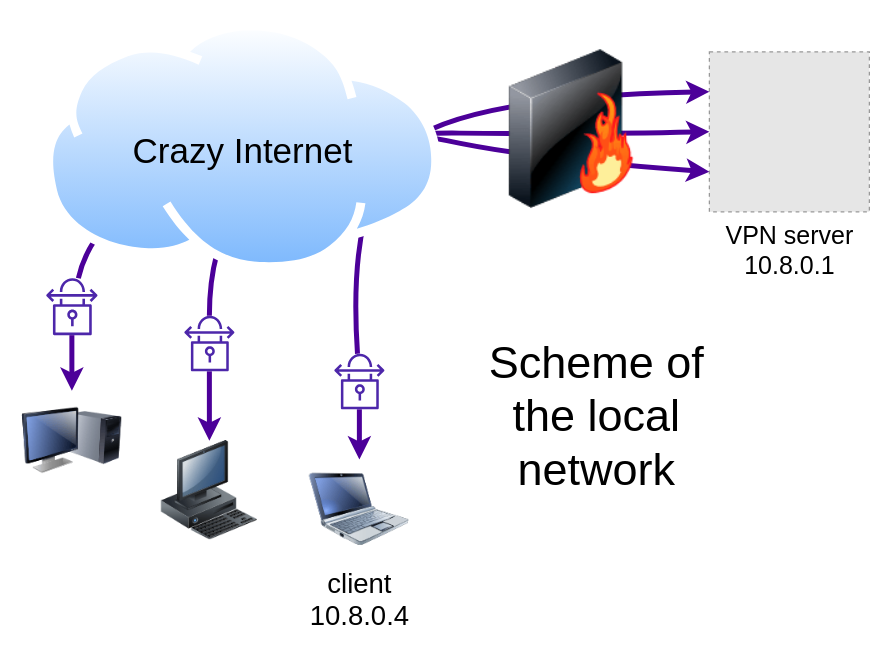
This 891x655 diagram has some shape labels left out. Grey dashed boxes stand in for pictures. The box of each missing label's shape, as (x1, y1, x2, y2) in pixels:
client 10.8.0.2: (21, 390, 121, 490)
client 10.8.0.3: (159, 440, 259, 540)
